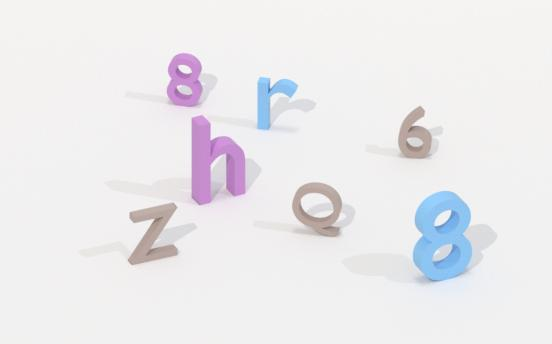6: (396, 105, 439, 162)
8: (407, 190, 478, 284), (162, 52, 209, 110)
R: (252, 75, 306, 130)
h: (182, 113, 261, 206)
q: (289, 180, 347, 241)
z: (124, 201, 183, 266)
